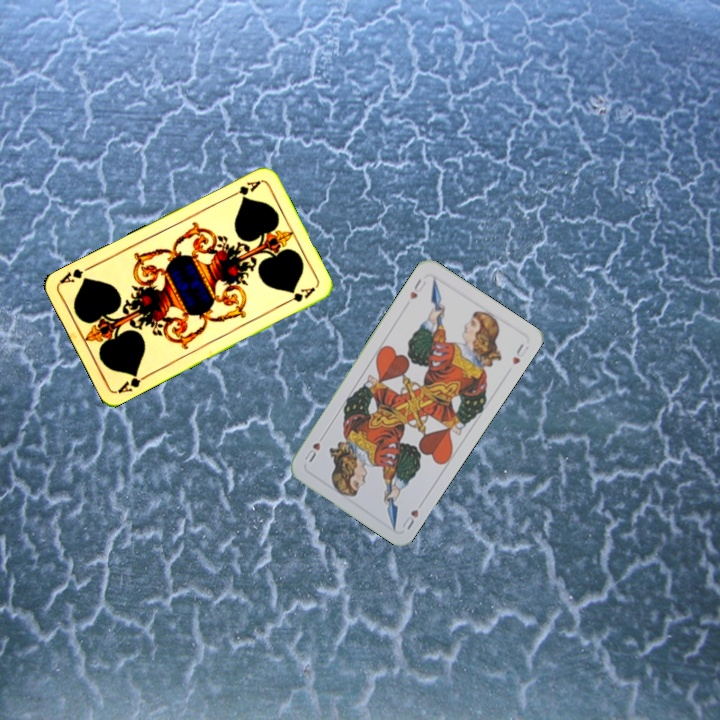GA: (113, 369, 151, 396), (225, 176, 263, 200)
HU: (405, 275, 429, 302), (398, 505, 421, 533)
